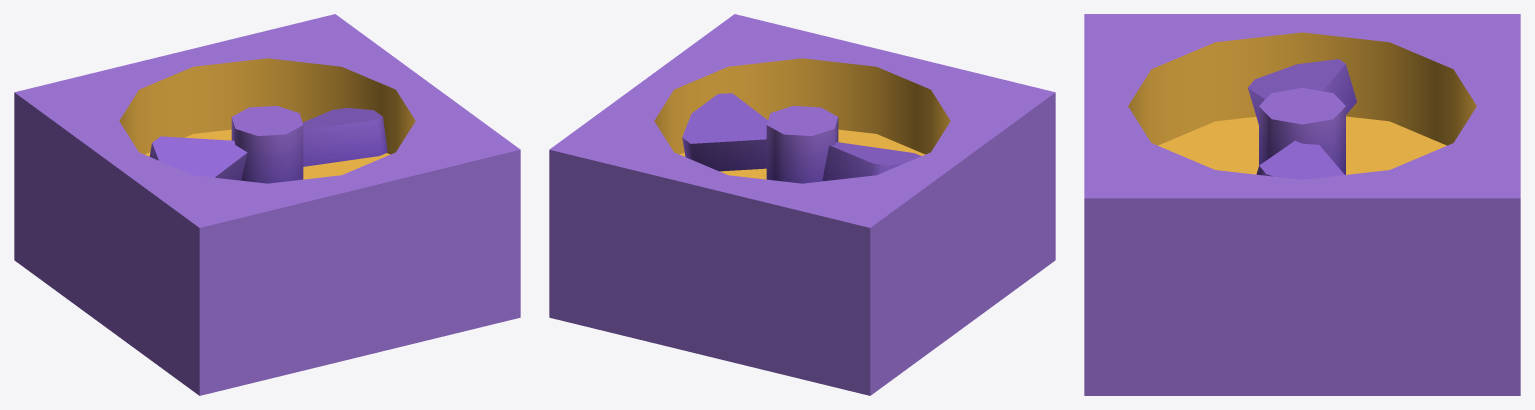
File: kenney-marble-fan-two.glb
3 renders of one model, left to right at view 1: azimuth 30°, elevation 25°; view 2: azimuth 150°, elevation 25°; view 3: azimuth 270°, elevation 25°, orthographic. The views are drawn at different scales.
Visible parts, largest first — view 1: fan-two; view 2: fan-two; view 3: fan-two.
Part boxes in pixels (box(x1,y1,x2,y2)): fan-two: box(14, 14, 520, 395); fan-two: box(549, 14, 1055, 395); fan-two: box(1084, 14, 1520, 395).
Bounding box in the file's own units: 1 × 0.5001 × 1.
Materials: 1 (1 with a texture image).
